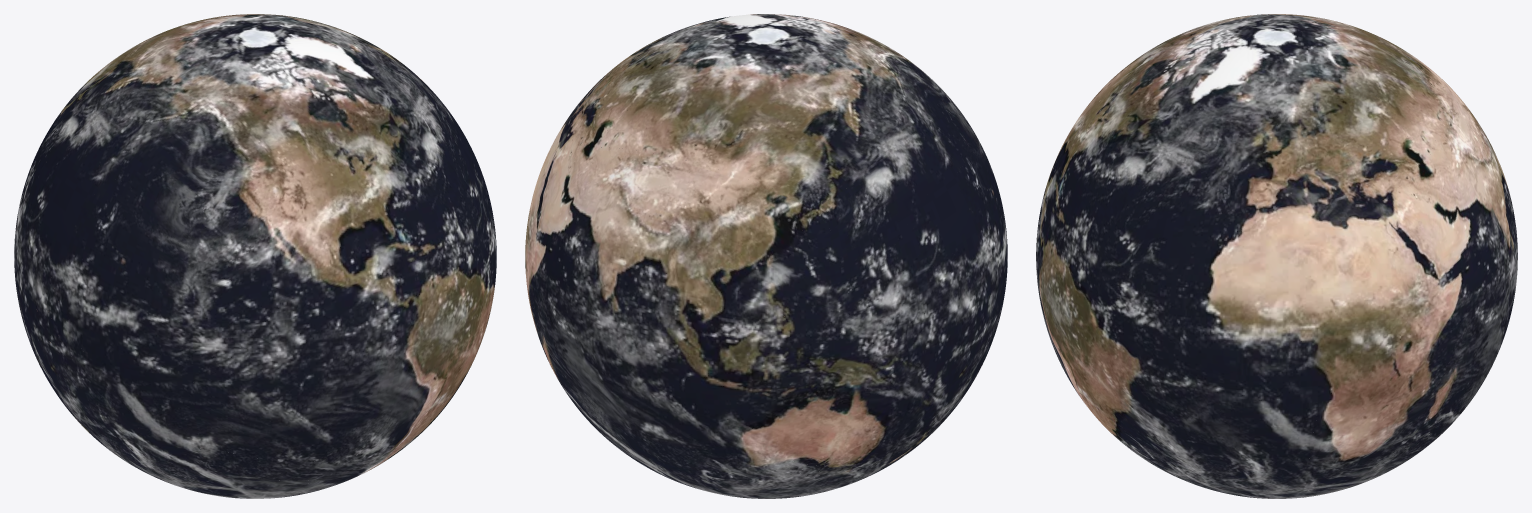
Rendered from earth.glb.
3 renders of one model, left to right at view 1: azimuth 30°, elevation 25°; view 2: azimuth 150°, elevation 25°; view 3: azimuth 270°, elevation 25°, orthographic.
Visible parts, largest first — view 1: Earth; view 2: Earth; view 3: Earth.
Part boxes in pixels (<box>): Earth: <box>14,14,496,498</box>; Earth: <box>525,14,1007,498</box>; Earth: <box>1036,14,1517,498</box>.
Size of the model in its own units: 0.3854 by 0.3883 by 0.3854.
1 material, 1 textured.
